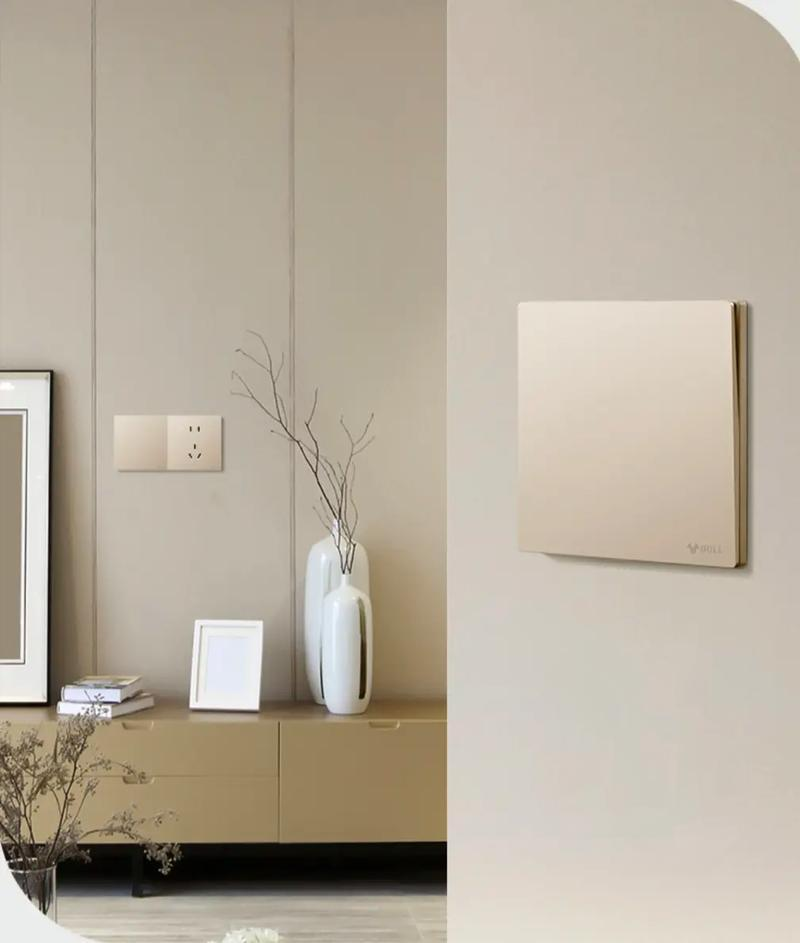button: (516, 298, 754, 572), (110, 412, 169, 472)
